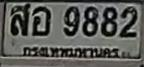2: (119, 6, 136, 36)
8: (100, 6, 116, 36), (82, 5, 97, 36)
9: (63, 5, 79, 35)
A40: (10, 2, 30, 35)
A43: (31, 6, 50, 35)
BKK: (21, 43, 120, 60)
